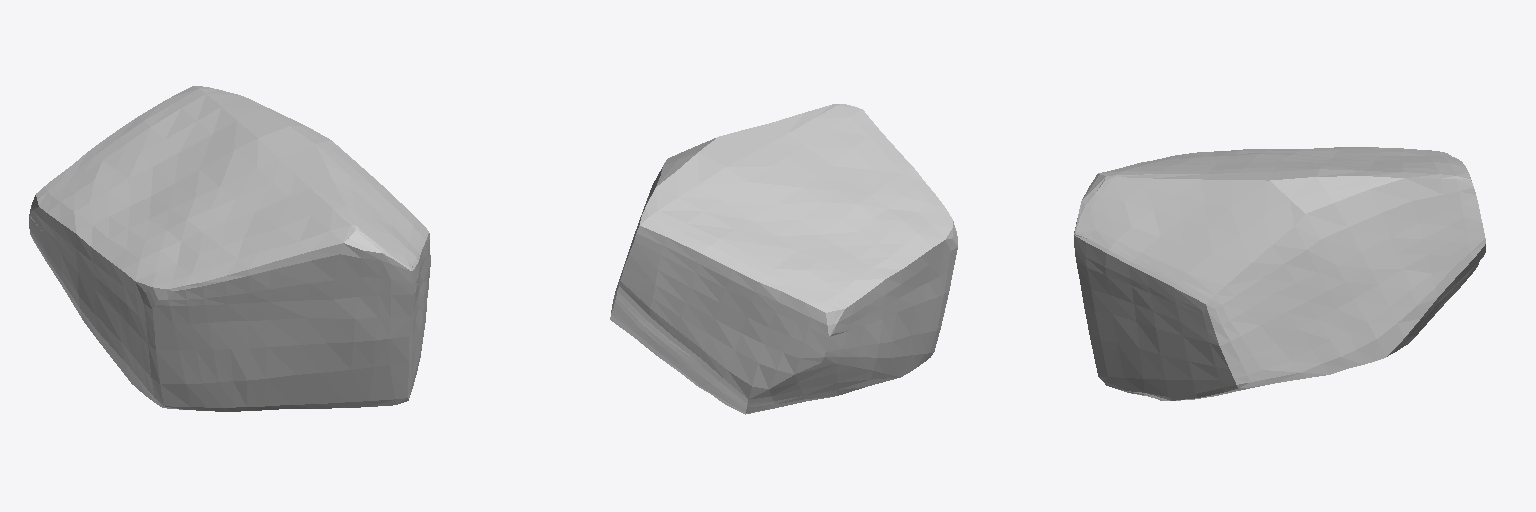
File: Rock_12obj.obj
The picture shows the model from 3 angles: view 1: azimuth 30°, elevation 25°; view 2: azimuth 150°, elevation 25°; view 3: azimuth 270°, elevation 25°; orthographic projection.
Visible parts, largest first — view 1: ST_Stone1; view 2: ST_Stone1; view 3: ST_Stone1.
Boxes of the visible parts, x1,y1,x2,y2 form: ST_Stone1: [29, 86, 430, 411]; ST_Stone1: [610, 104, 957, 414]; ST_Stone1: [1074, 147, 1485, 400].
Size of the model in its own units: 1.39 by 0.9249 by 1.66.